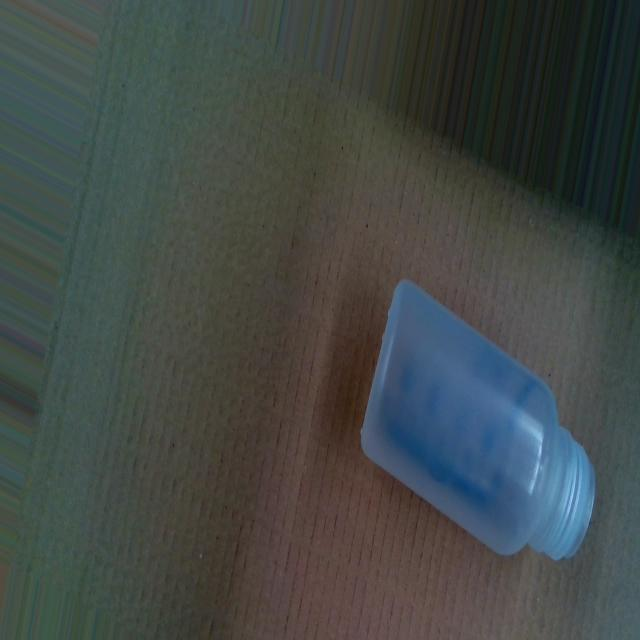bottle: (359, 283, 595, 568)
